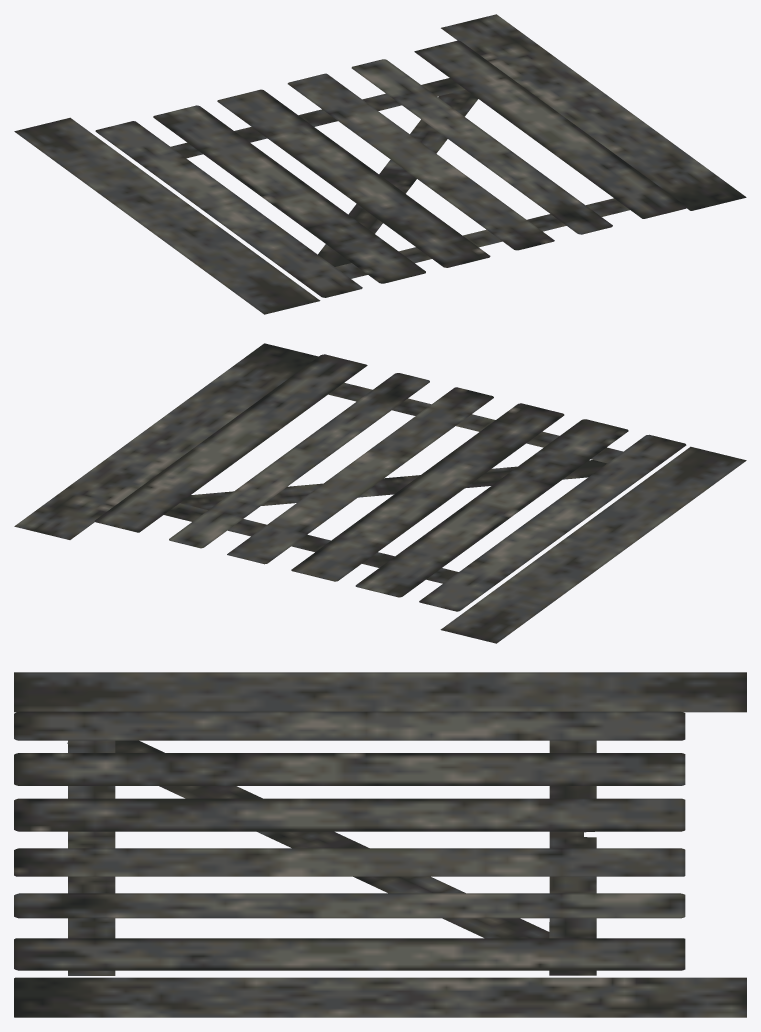
Rendered from SM_EC_Fence_Gate_Card_01.fbx.
The picture shows the model from 3 angles, top to bottom: view 1: azimuth 30°, elevation 25°; view 2: azimuth 150°, elevation 25°; view 3: azimuth 270°, elevation 25°; orthographic projection. The views are drawn at different scales.
Parts seen in each view (by area): view 1: SM_EC_Fence_Gate_Card_01; view 2: SM_EC_Fence_Gate_Card_01; view 3: SM_EC_Fence_Gate_Card_01.
Boxes of the visible parts, box(x1,y1,x2,y2) form: SM_EC_Fence_Gate_Card_01: box(14, 14, 746, 314); SM_EC_Fence_Gate_Card_01: box(14, 343, 746, 643); SM_EC_Fence_Gate_Card_01: box(14, 672, 746, 1017).
Size of the model in its own units: 1.29 by 1.16 by 0.0192.
